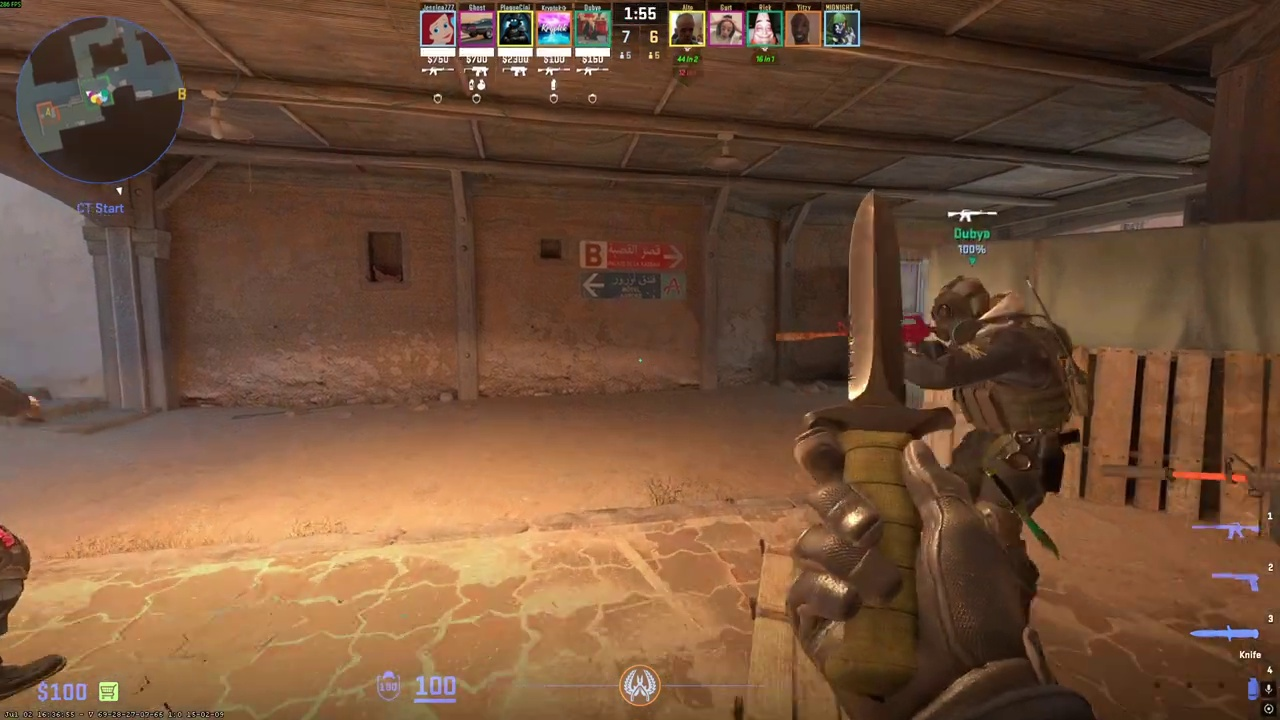CT: (911, 275, 1079, 552)
